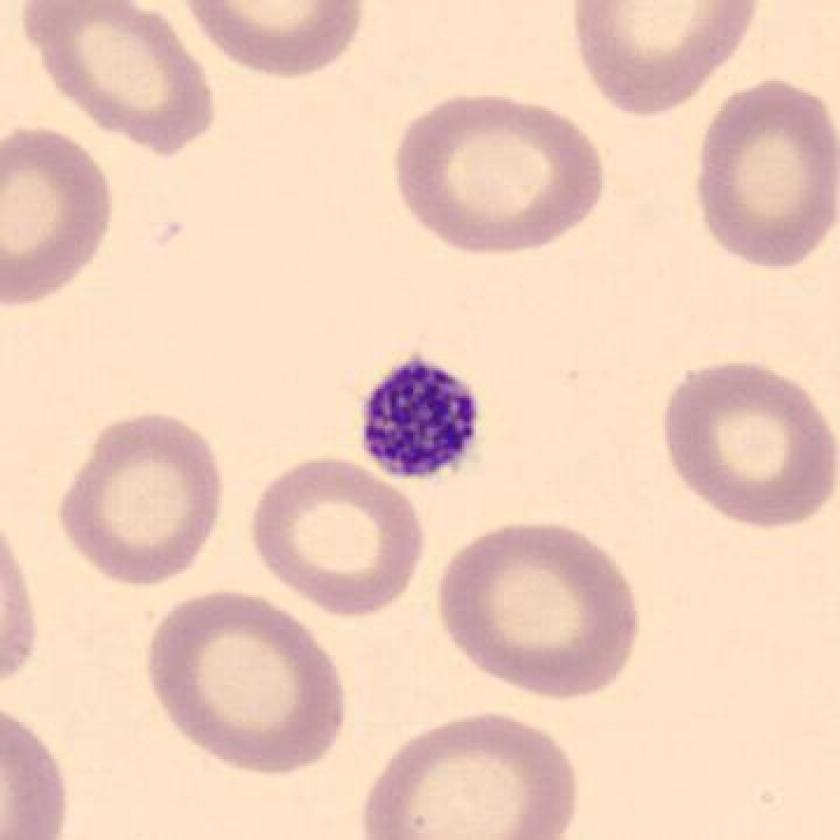platelets: (358, 348, 491, 489)
